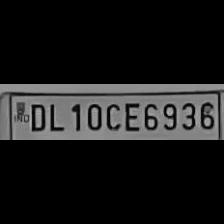0: (83, 101, 103, 131)
1: (65, 100, 83, 132)
3: (178, 98, 196, 130)
6: (197, 98, 215, 130), (140, 99, 158, 130)
9: (160, 99, 178, 130)
C: (103, 99, 121, 130)
D: (26, 100, 46, 132)
E: (120, 100, 140, 132)
L: (46, 100, 64, 132)
